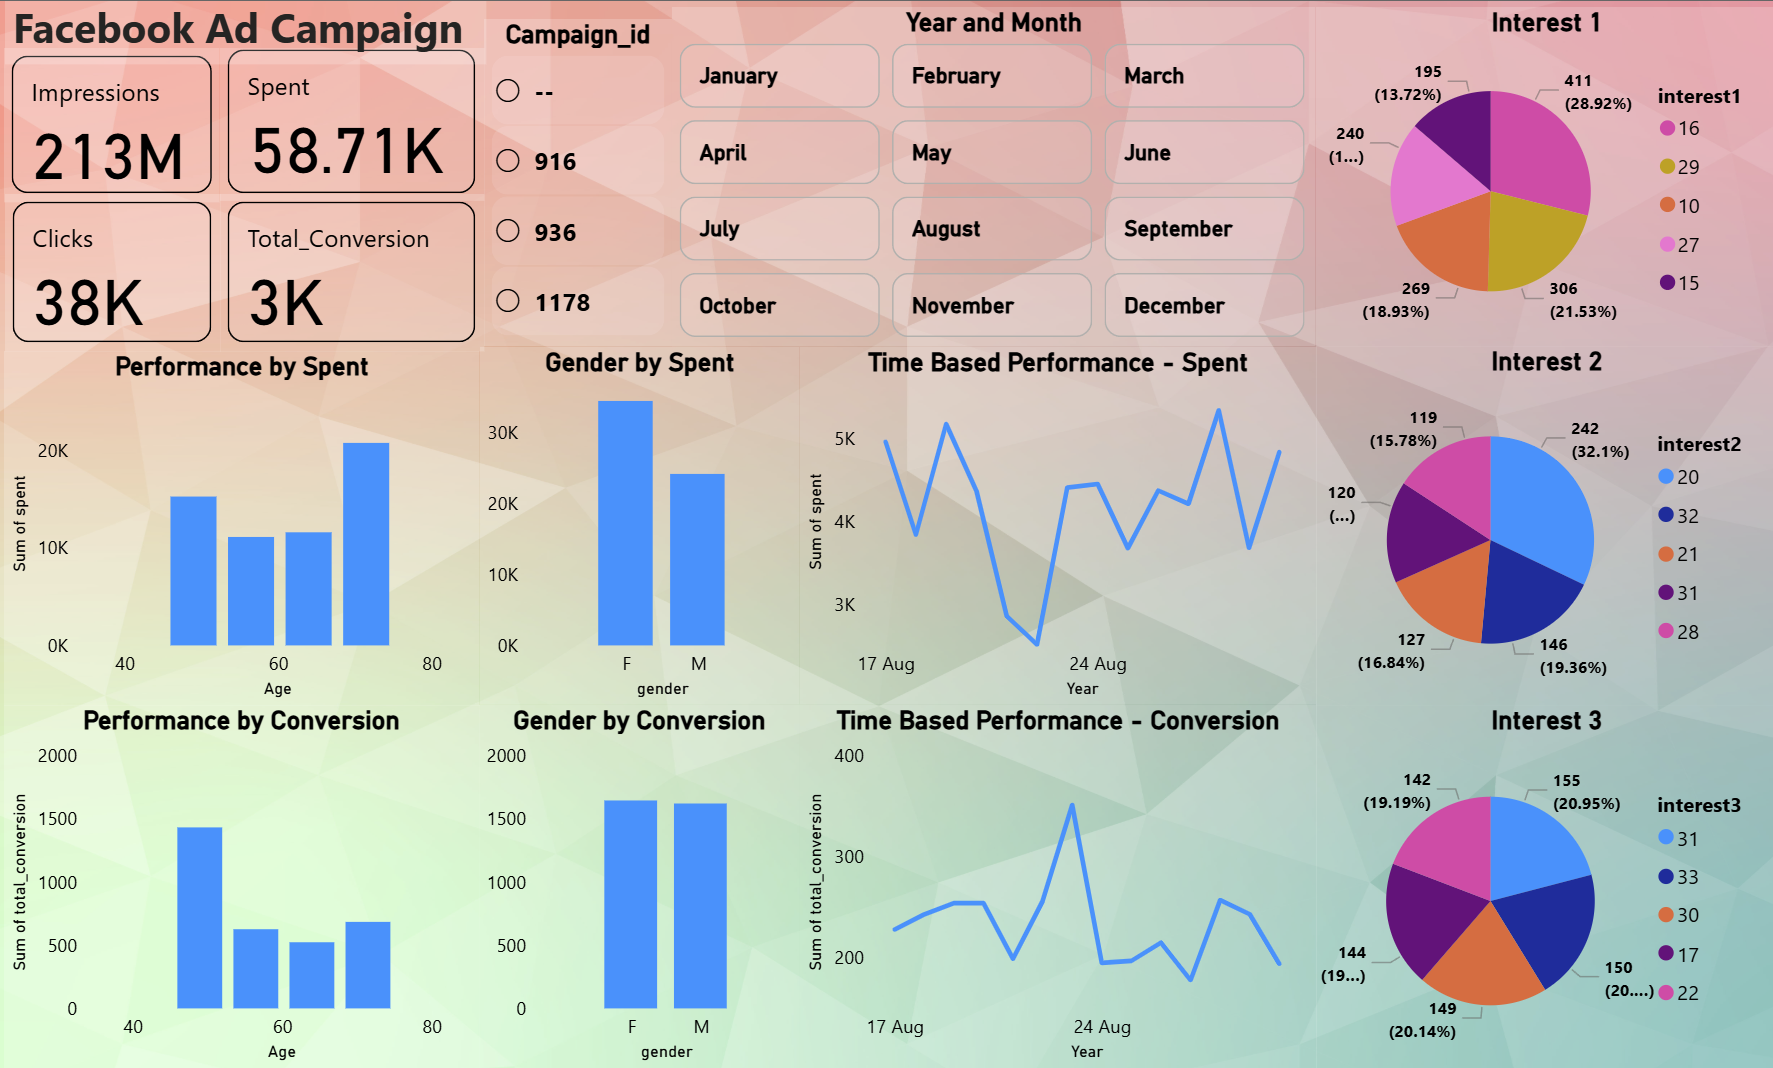

This screenshot's page, from the dashboard's own definition file:
{"tool":"powerbi","page":{"name":"Page 1","canvas":[1280,720],"ordinal":0},"visuals":[{"type":"cardVisual","fields":{"Data":["Sum(Facebook Ad Campaign (2).impressions)"]},"box":[51,52.4,141.3,100.8],"z":0},{"type":"cardVisual","fields":{"Data":["Sum(Facebook Ad Campaign (2).spent)"]},"box":[192.4,52.4,172.8,100.1],"z":1000},{"type":"cardVisual","fields":{"Data":["Sum(Facebook Ad Campaign (2).clicks)"]},"box":[51.7,147.9,140.7,102.7],"z":2000},{"type":"cardVisual","fields":{"Data":["Sum(Facebook Ad Campaign (2).total_conversion)"]},"box":[192.4,147.9,172.8,102.7],"z":3000},{"type":"clusteredColumnChart","title":"Performance by Spent","fields":{"Category":["Facebook Ad Campaign (2).Age"],"Y":["Sum(Facebook Ad Campaign (2).spent)"]},"box":[51,250.8,311.5,231.7],"z":4000},{"type":"columnChart","title":"Performance by Conversion","fields":{"Category":["Facebook Ad Campaign (2).Age"],"Y":["Sum(Facebook Ad Campaign (2).total_conversion)"]},"box":[51,482.5,310.8,237.5],"z":5000},{"type":"columnChart","title":"Gender by Spent","fields":{"Category":["Facebook Ad Campaign (2).gender"],"Y":["Sum(Facebook Ad Campaign (2).spent)"]},"box":[362.5,248.2,209.4,234.3],"z":6000},{"type":"columnChart","title":"Gender by Conversion","fields":{"Category":["Facebook Ad Campaign (2).gender"],"Y":["Sum(Facebook Ad Campaign (2).total_conversion)"]},"box":[361.9,482.5,210.1,237.5],"z":7000},{"type":"lineChart","title":"Time Based Performance - Spent","fields":{"Y":["Sum(Facebook Ad Campaign (2).spent)"],"Category":["Facebook Ad Campaign (2).reporting_start.Variation.Date Hierarchy.Year","Facebook Ad Campaign (2).reporting_start.Variation.Date Hierarchy.Quarter","Facebook Ad Campaign (2).reporting_start.Variation.Date Hierarchy.Month","Facebook Ad Campaign (2).reporting_start.Variation.Date Hierarchy.Day"]},"box":[571.9,248.2,337.7,234.3],"z":8000},{"type":"lineChart","title":"Time Based Performance - Conversion","fields":{"Y":["Sum(Facebook Ad Campaign (2).total_conversion)"],"Category":["Facebook Ad Campaign (2).reporting_start.Variation.Date Hierarchy.Year","Facebook Ad Campaign (2).reporting_start.Variation.Date Hierarchy.Quarter","Facebook Ad Campaign (2).reporting_start.Variation.Date Hierarchy.Month","Facebook Ad Campaign (2).reporting_start.Variation.Date Hierarchy.Day"]},"box":[571.9,482.5,337.7,237.5],"z":9000},{"type":"pieChart","title":"Interest 1","fields":{"Category":["Facebook Ad Campaign (2).interest1"],"Y":["Sum(Facebook Ad Campaign (2).total_conversion)"]},"box":[909.6,25.7,302.6,222.1],"z":10000},{"type":"pieChart","title":"Interest 2","fields":{"Y":["Sum(Facebook Ad Campaign (2).total_conversion)"],"Category":["Facebook Ad Campaign (2).interest2"]},"box":[909.6,247.5,302.3,234.9],"z":11000},{"type":"pieChart","title":"Interest 3","fields":{"Y":["Sum(Facebook Ad Campaign (2).total_conversion)"],"Category":["Facebook Ad Campaign (2).interest3"]},"box":[909.6,482.5,302.3,237.5],"z":12000},{"type":"listSlicer","title":"Campaign_id","fields":{"Values":["Facebook Ad Campaign (2).campaign_id"]},"box":[365.2,33.4,123,214],"z":13000},{"type":"advancedSlicerVisual","title":"Year and Month","fields":{"Values":["Facebook Ad Campaign (2).reporting_start.Variation.Date Hierarchy.Month"]},"box":[488.2,25.7,421.4,221.8],"z":14000},{"type":"textbox","box":[51.7,15.1,314.8,47.8],"z":15000}]}

Visuals, with their boxes on the page's 1280x720 design canvas (x1, y1, x2, y2). These are canvas units, not pixel positions in the 1773x1068 screenshot, which may show the page scaled, cropped or inside an application window:
cardVisual - Sum(Facebook Ad Campaign (2).impressions): (left=51, top=52, right=192, bottom=153)
cardVisual - Sum(Facebook Ad Campaign (2).spent): (left=192, top=52, right=365, bottom=152)
cardVisual - Sum(Facebook Ad Campaign (2).clicks): (left=52, top=148, right=192, bottom=251)
cardVisual - Sum(Facebook Ad Campaign (2).total_conversion): (left=192, top=148, right=365, bottom=251)
"Performance by Spent" clusteredColumnChart: (left=51, top=251, right=362, bottom=482)
"Performance by Conversion" columnChart: (left=51, top=482, right=362, bottom=720)
"Gender by Spent" columnChart: (left=362, top=248, right=572, bottom=482)
"Gender by Conversion" columnChart: (left=362, top=482, right=572, bottom=720)
"Time Based Performance - Spent" lineChart: (left=572, top=248, right=910, bottom=482)
"Time Based Performance - Conversion" lineChart: (left=572, top=482, right=910, bottom=720)
"Interest 1" pieChart: (left=910, top=26, right=1212, bottom=248)
"Interest 2" pieChart: (left=910, top=248, right=1212, bottom=482)
"Interest 3" pieChart: (left=910, top=482, right=1212, bottom=720)
"Campaign_id" listSlicer: (left=365, top=33, right=488, bottom=247)
"Year and Month" advancedSlicerVisual: (left=488, top=26, right=910, bottom=248)
textbox: (left=52, top=15, right=366, bottom=63)
